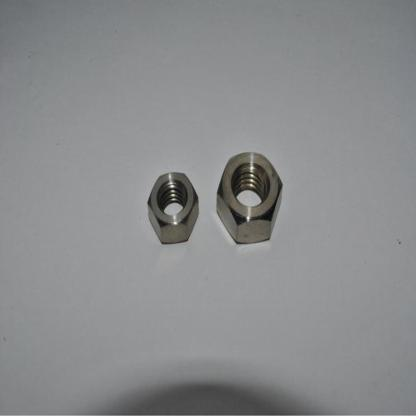FOD: (214, 150, 285, 248), (146, 170, 200, 248)
